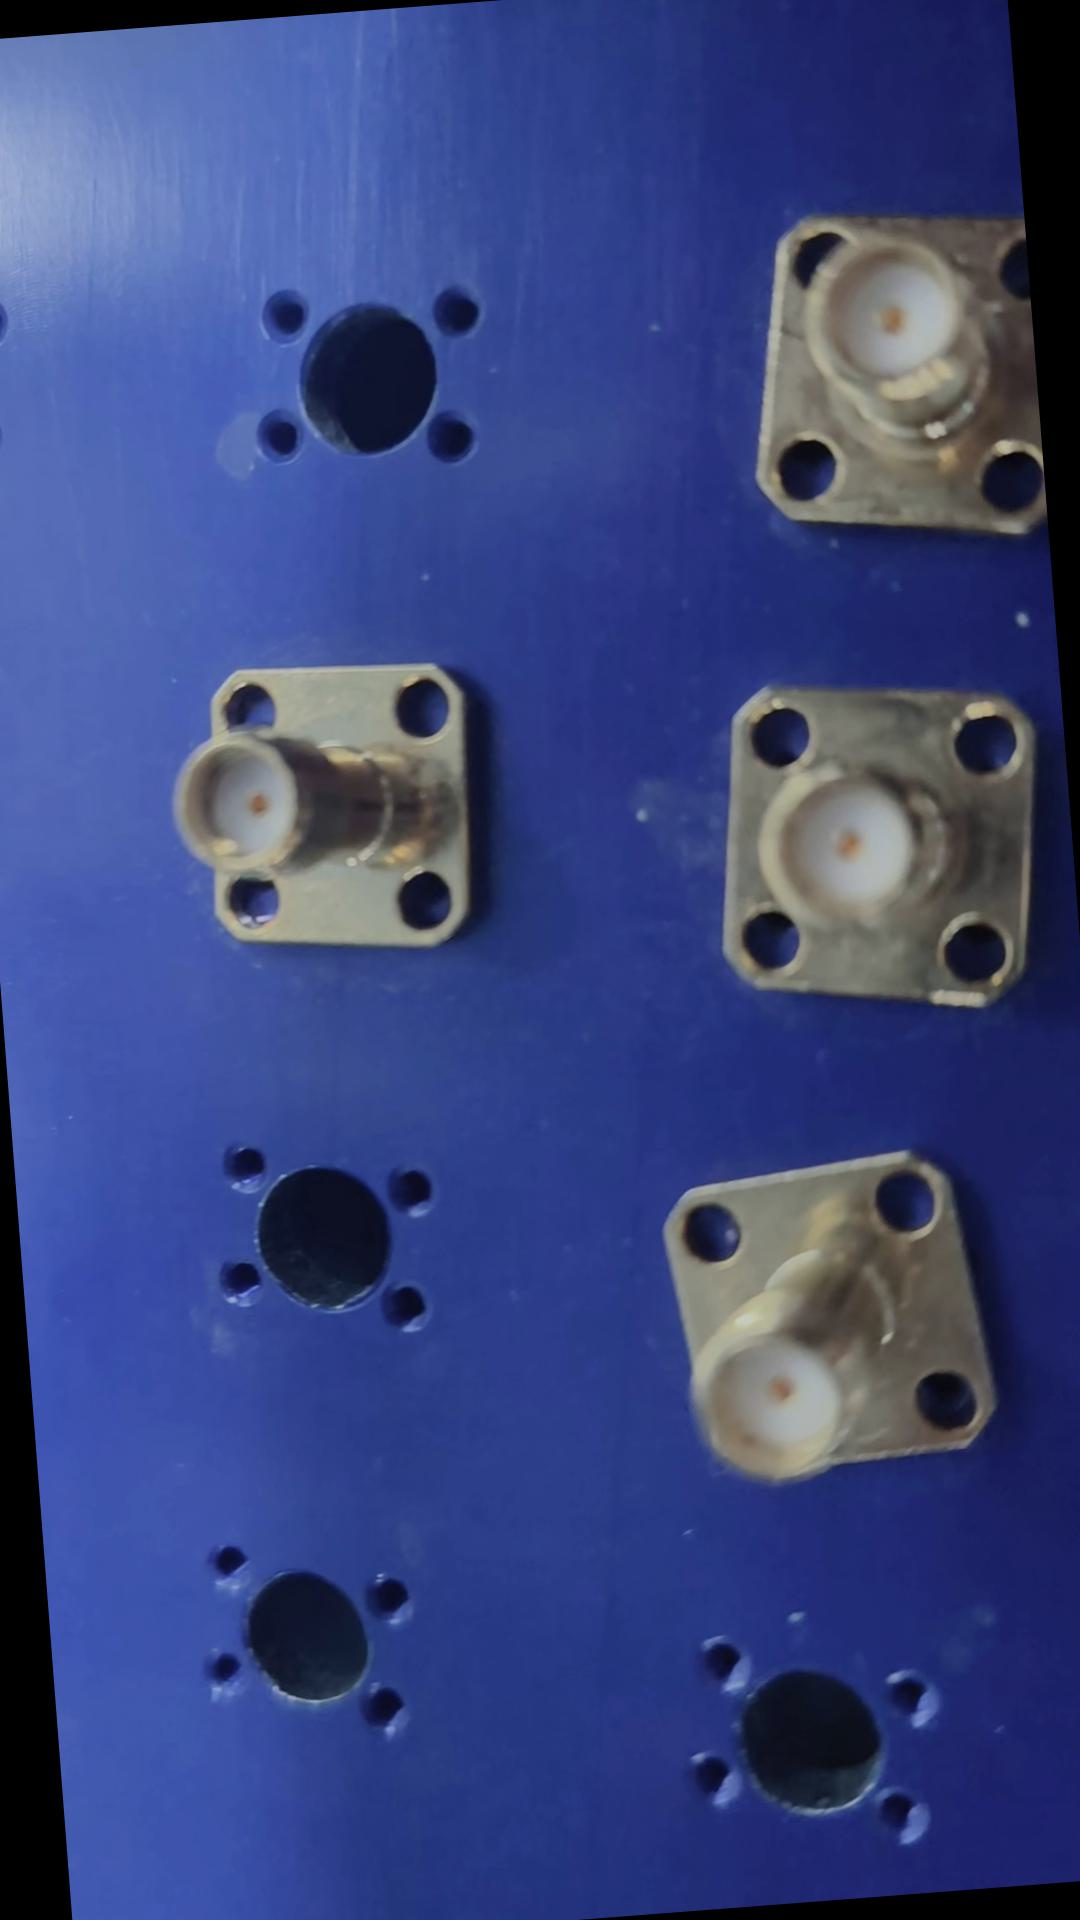SMA: (699, 671, 1048, 1029), (632, 1153, 1007, 1482), (723, 194, 1048, 566), (164, 636, 502, 972)
